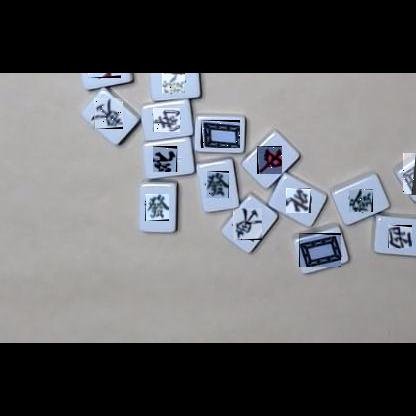1z: (233, 208, 262, 240), (94, 98, 123, 129)
2z: (153, 108, 180, 132)
3z: (388, 225, 412, 248)
4z: (154, 146, 182, 172), (286, 188, 311, 213)
5z: (299, 233, 341, 267), (201, 120, 240, 148), (403, 153, 416, 195)
6z: (145, 194, 169, 221), (206, 171, 229, 198), (349, 189, 373, 212), (162, 73, 185, 93)
7z: (257, 146, 282, 174), (88, 73, 121, 78)
